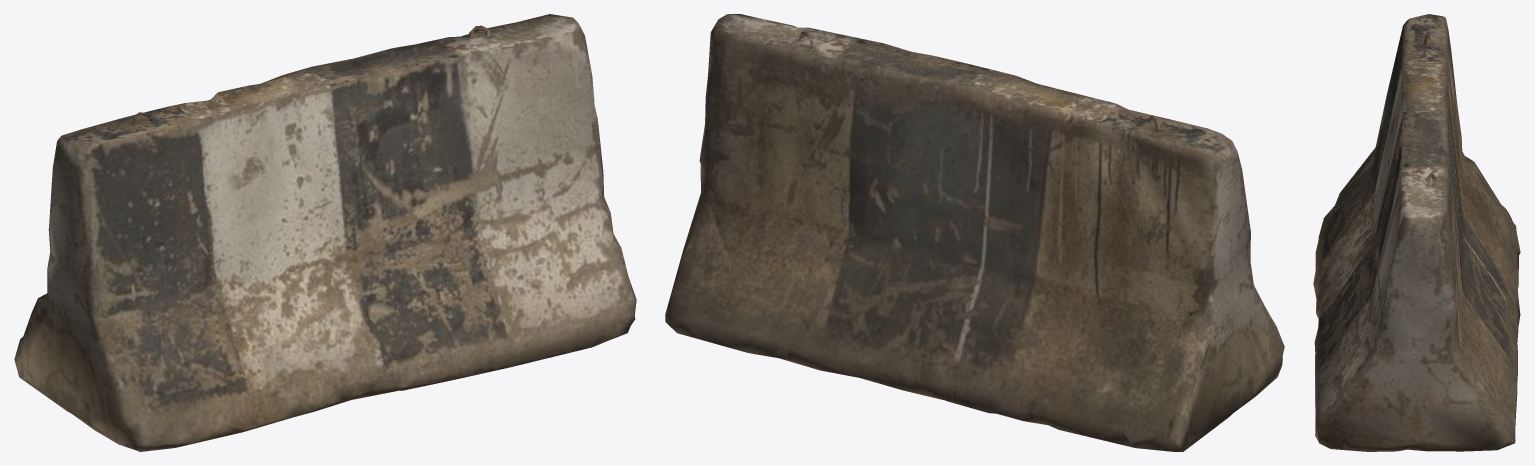
Rendered from jersey_barrier.glb.
3 views of the same model, side by side, from view 1: azimuth 30°, elevation 25°; view 2: azimuth 150°, elevation 25°; view 3: azimuth 270°, elevation 25° (orthographic). The views are drawn at different scales.
Visible parts, largest first — view 1: jersey_barrier; view 2: jersey_barrier; view 3: jersey_barrier.
Boxes of the visible parts, <box> form: jersey_barrier: <box>14,14,636,451</box>; jersey_barrier: <box>665,14,1284,451</box>; jersey_barrier: <box>1313,14,1520,451</box>.
Size of the model in its own units: 1.54 by 0.8304 by 0.6379.
1 material, 1 textured.
